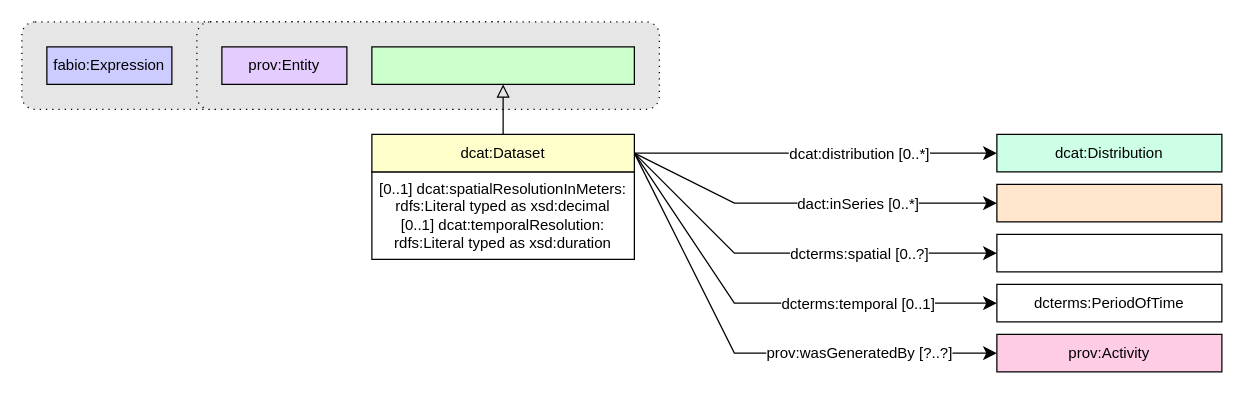
Some shapes in this 1244 by 394 pixel diagram are drawn without their labels. Here are the shapes that lost their labels. From the top down, the centre of each, then its label:
At [502,65]: "dcat:Resource".
At [1109,202]: "dcat:DatasetSeries".
At [1109,252]: "dcterms:Location".
